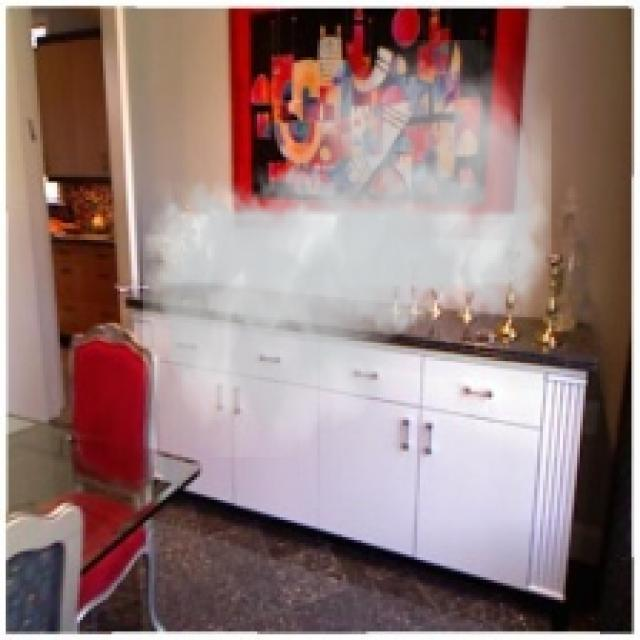Smoke: (143, 40, 552, 457)
